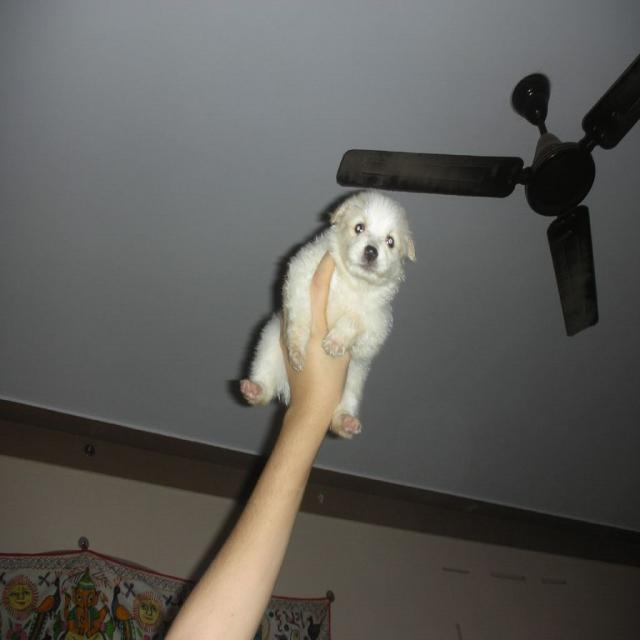fan_off: (329, 47, 640, 330)
